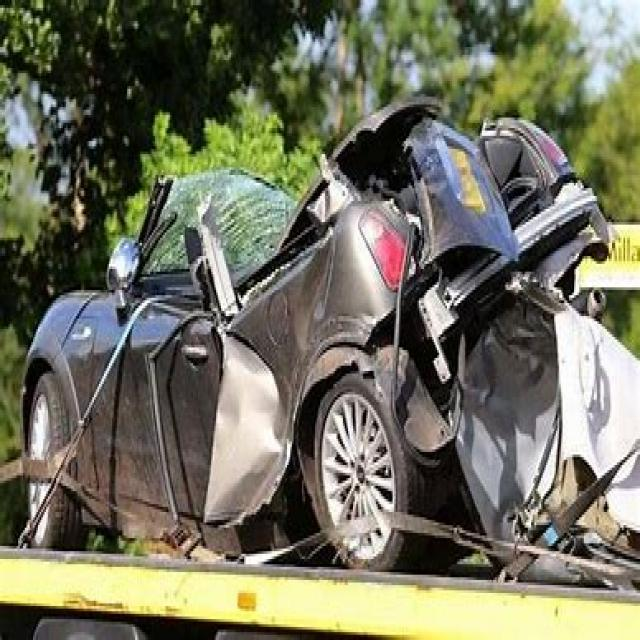Accident: (48, 91, 640, 637)
